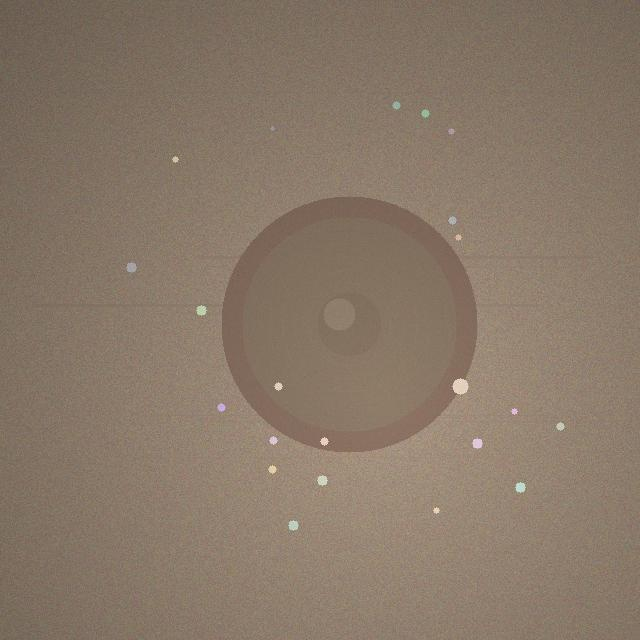overburn: (221, 196, 477, 452)
